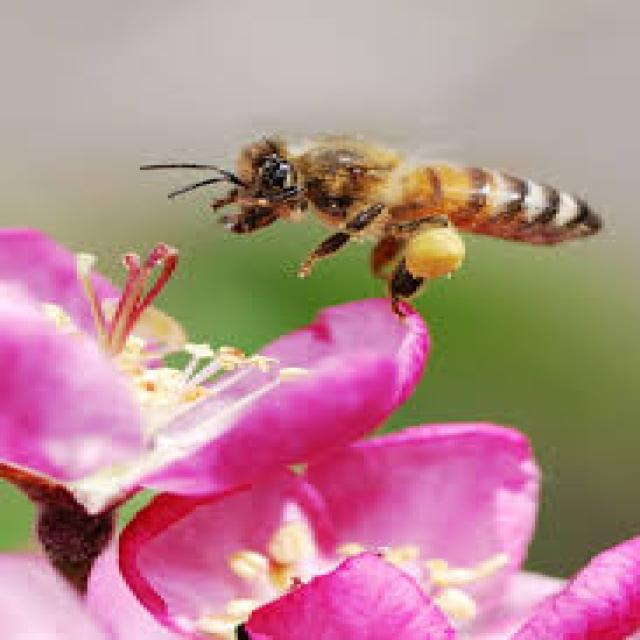Bees: (139, 132, 609, 319)
